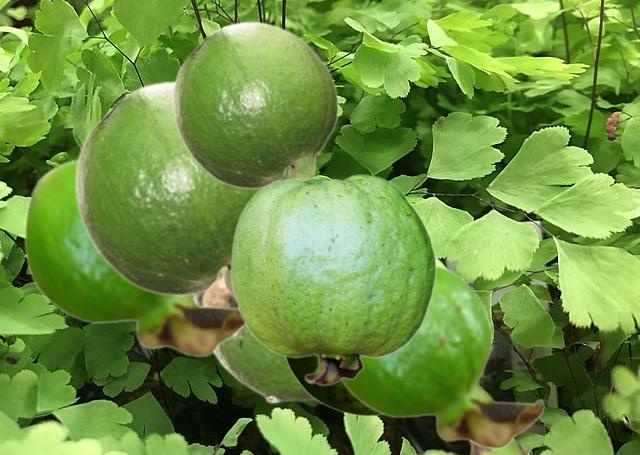guava: (73, 79, 286, 299), (23, 158, 245, 357), (230, 174, 436, 385), (341, 264, 545, 449), (171, 20, 338, 190), (285, 257, 446, 415), (195, 281, 317, 403)
